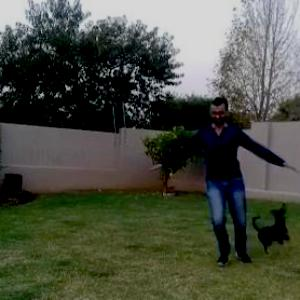land: (140, 98, 292, 268)
